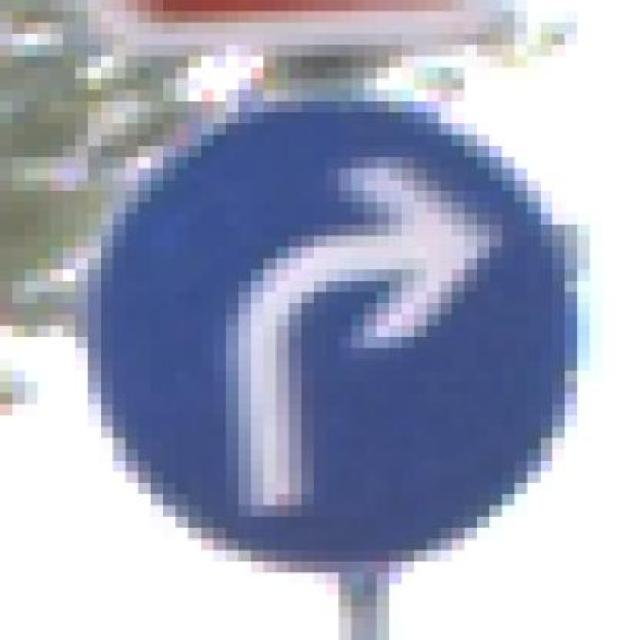Turn right ahead: (75, 90, 590, 596)
